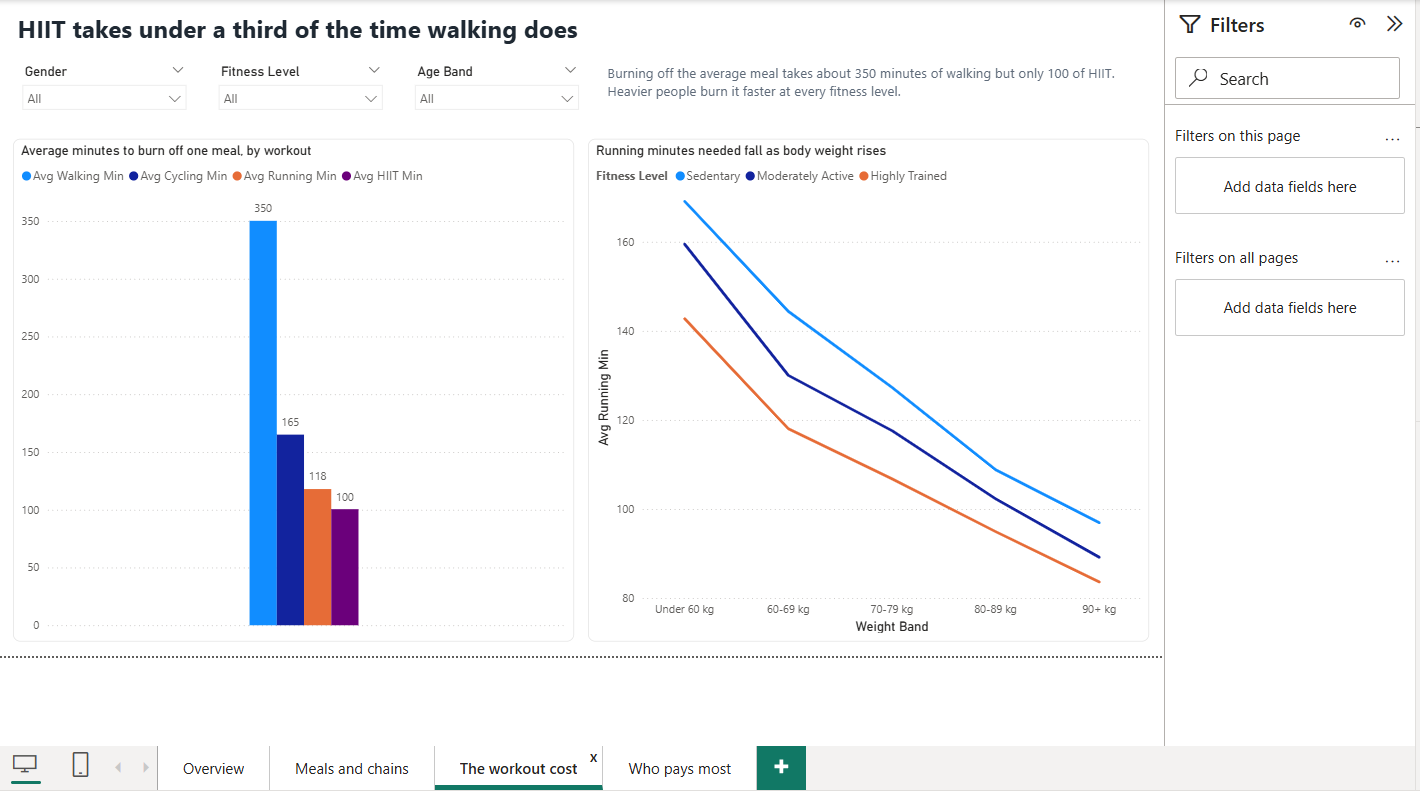

Layout of this report page (visuals, bound fields, positions):
{"tool":"powerbi","page":{"name":"The workout cost","canvas":[1280,720],"ordinal":2},"visuals":[{"type":"textbox","box":[16,8,1248,48],"z":20000},{"type":"slicer","fields":{"Values":["DimGender.Gender"]},"box":[16,64,200,72],"z":21000},{"type":"slicer","fields":{"Values":["DimFitness.Fitness Level"]},"box":[232,64,200,72],"z":22000},{"type":"slicer","fields":{"Values":["DimAgeBand.Age Band"]},"box":[448,64,200,72],"z":23000},{"type":"textbox","box":[664,64,600,72],"z":24000},{"type":"clusteredColumnChart","title":"Average minutes to burn off one meal, by workout","fields":{"Y":["FactOrders.Avg Walking Min","FactOrders.Avg Cycling Min","FactOrders.Avg Running Min","FactOrders.Avg HIIT Min"]},"box":[16,152,616,552],"z":25000},{"type":"lineChart","title":"Running minutes needed fall as body weight rises","fields":{"Category":["DimWeightBand.Weight Band"],"Series":["DimFitness.Fitness Level"],"Y":["FactOrders.Avg Running Min"]},"box":[648,152,616,552],"z":26000}]}

Visuals, with their boxes on the page's 1280x720 design canvas (x1, y1, x2, y2). These are canvas units, not pixel positions in the 1420x791 screenshot, which may show the page scaled, cropped or inside an application window:
textbox: bbox=(16, 8, 1264, 56)
slicer - DimGender.Gender: bbox=(16, 64, 216, 136)
slicer - DimFitness.Fitness Level: bbox=(232, 64, 432, 136)
slicer - DimAgeBand.Age Band: bbox=(448, 64, 648, 136)
textbox: bbox=(664, 64, 1264, 136)
"Average minutes to burn off one meal, by workout" clusteredColumnChart: bbox=(16, 152, 632, 704)
"Running minutes needed fall as body weight rises" lineChart: bbox=(648, 152, 1264, 704)
